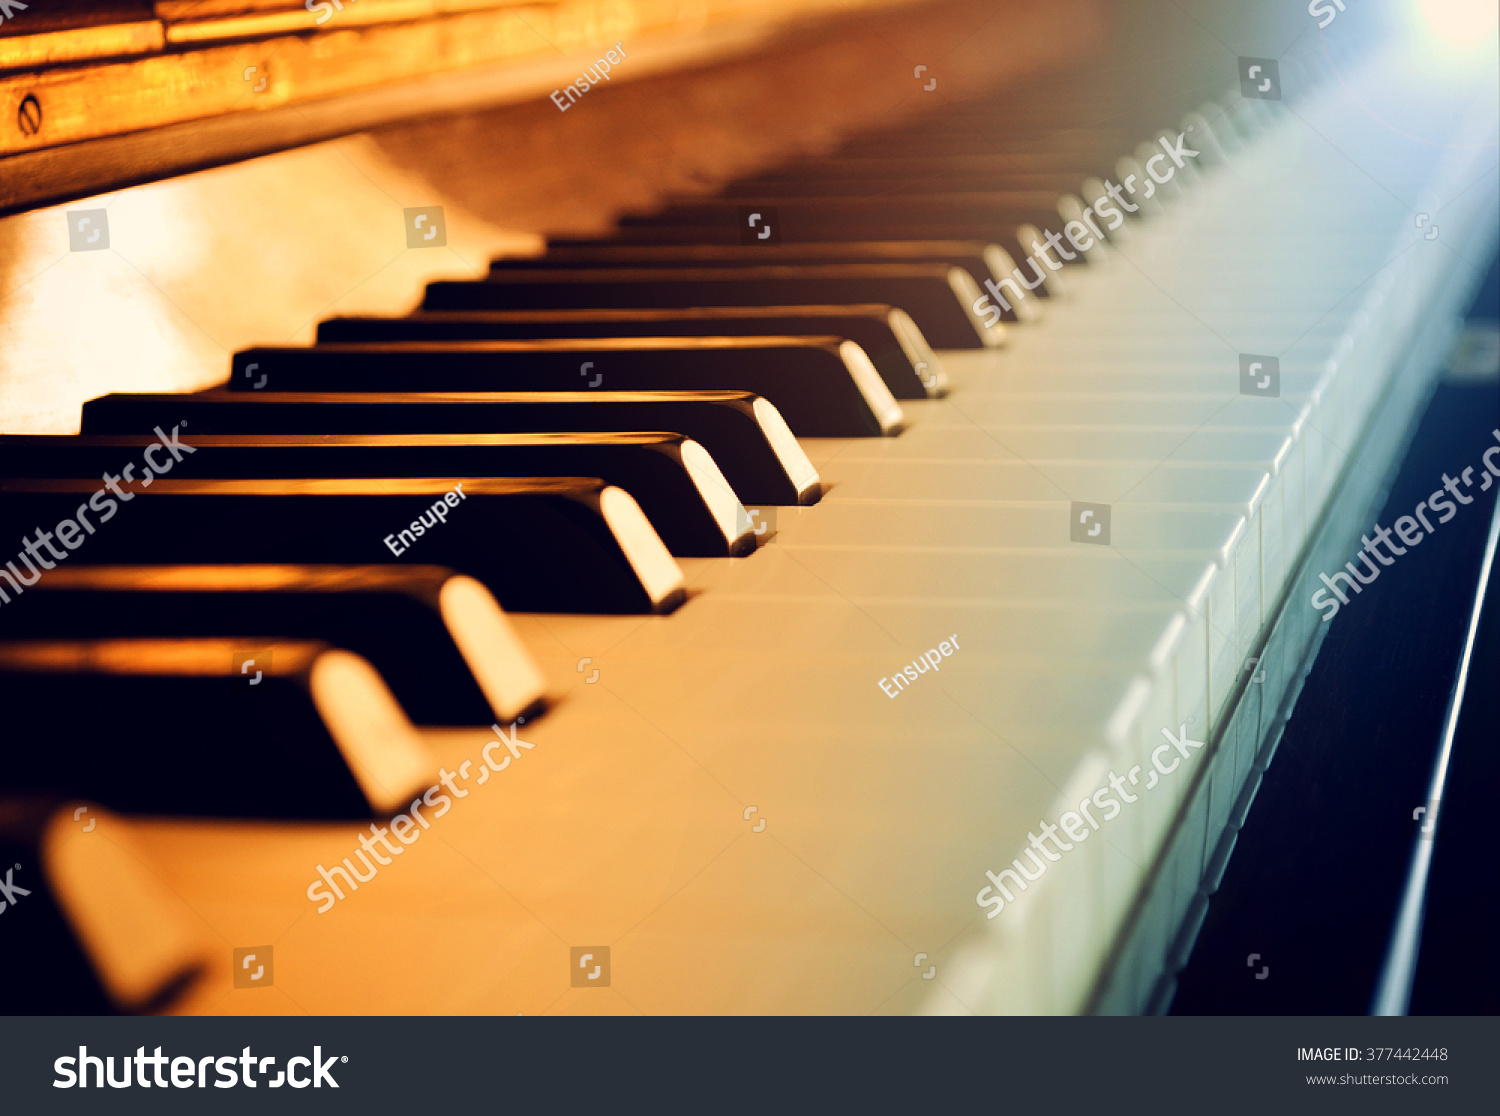Piano: (1, 8, 1482, 1016)
